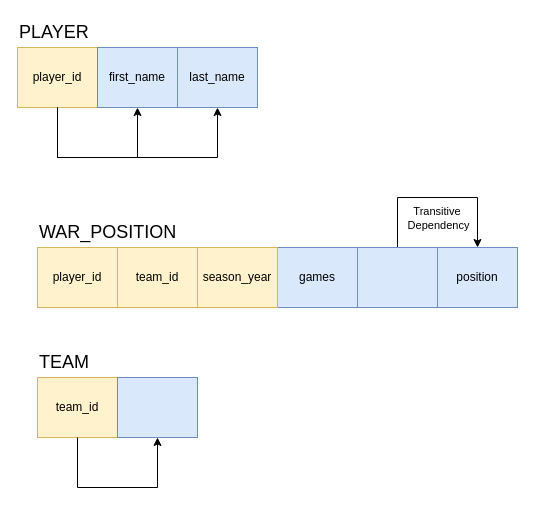
The diagram is 535 pixels wide and 513 high, and some of its shapes have lost their labels. Each missing label, with the centre of its shape:
"position_id" goes at (397,277).
"team_name" goes at (157,407).
